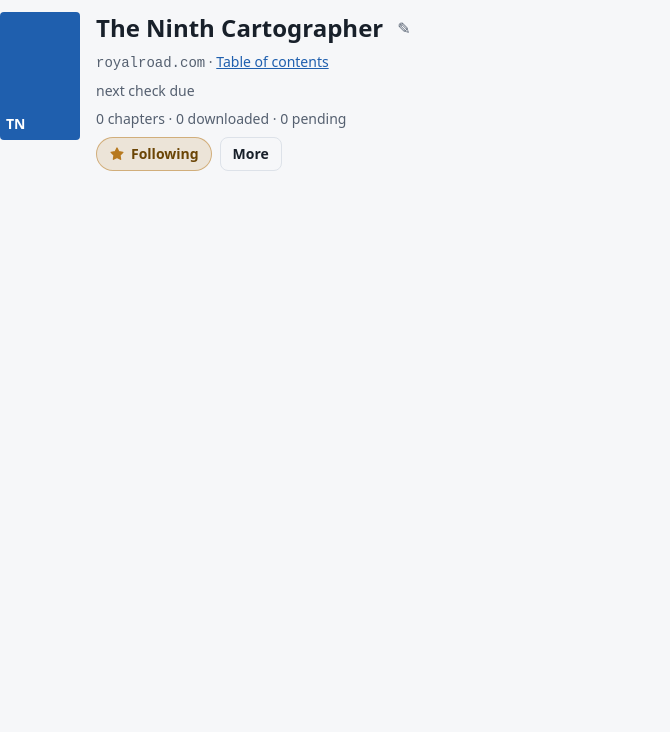
it: NovelHeader › Sync › shows an error from the request in a toast
Click the button "More".
click(251, 154)  # box [220,137,282,171]
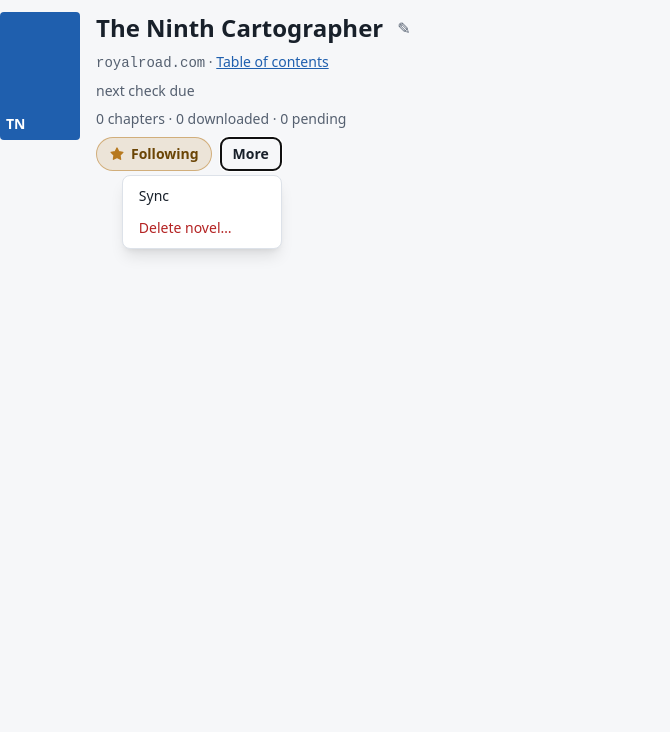
Click the button "Sync".
click(202, 196)  # box [127,180,277,212]
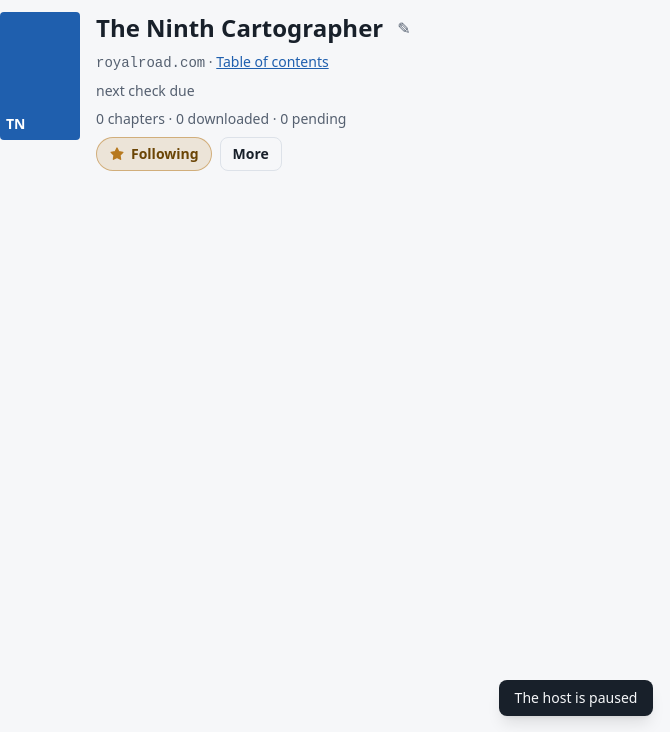
Expected: the text "The host is paused" is shown, [499,680,653,716]
